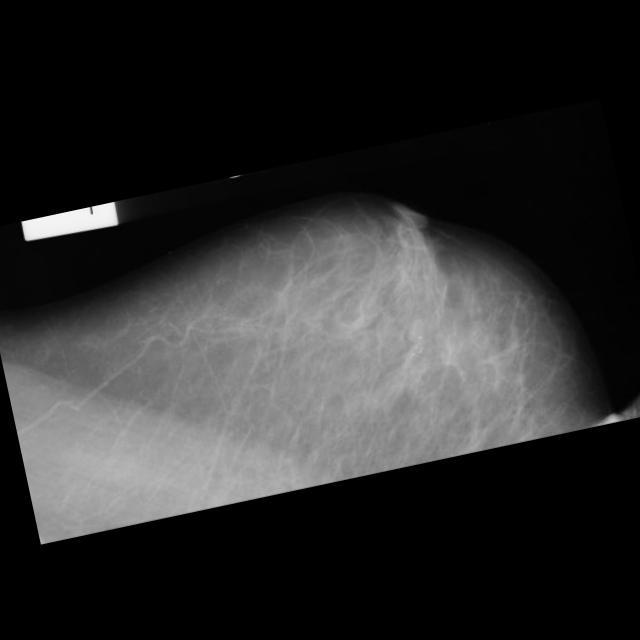CALC: (401, 328, 435, 362)
